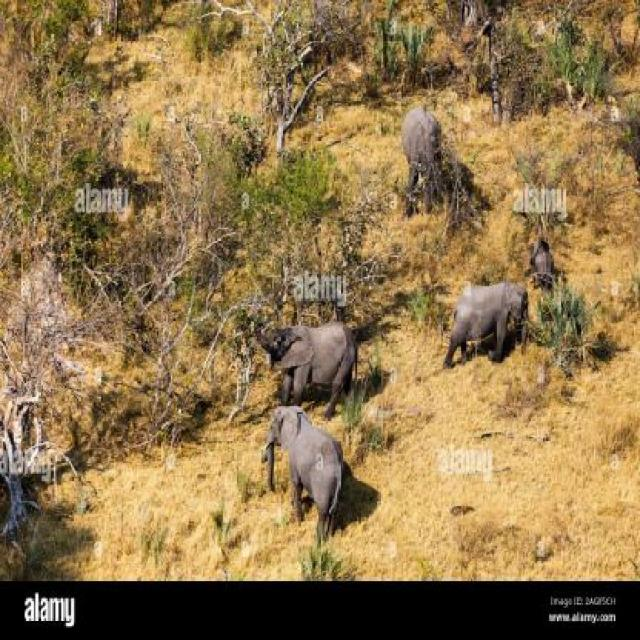elephant: (230, 303, 368, 403), (255, 402, 352, 542), (428, 276, 538, 393), (393, 98, 458, 214), (528, 221, 569, 305)
